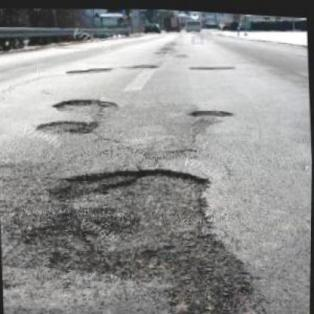Hueco: (16, 155, 221, 291), (34, 114, 102, 138), (50, 93, 120, 113), (65, 62, 119, 76), (188, 104, 236, 116), (187, 59, 238, 69), (124, 60, 161, 70), (155, 46, 168, 54)
